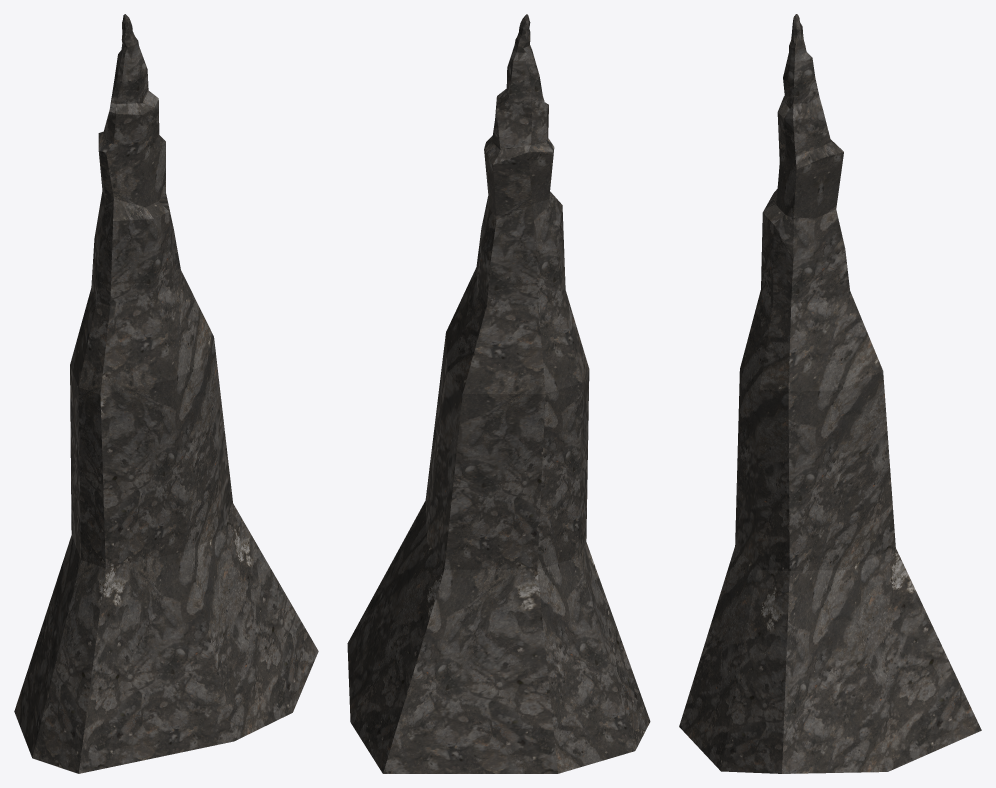
Rendered from rock02.glb.
The picture shows the model from 3 angles, left to right: view 1: azimuth 30°, elevation 25°; view 2: azimuth 150°, elevation 25°; view 3: azimuth 270°, elevation 25°; orthographic projection.
Visible parts, largest first — view 1: rock01-col; view 2: rock01-col; view 3: rock01-col.
Boxes of the visible parts, <box> form: rock01-col: <box>14,14,318,773</box>; rock01-col: <box>347,14,650,773</box>; rock01-col: <box>679,14,981,773</box>.
Size of the model in its own units: 157 by 375 by 145.
1 material, 1 textured.
